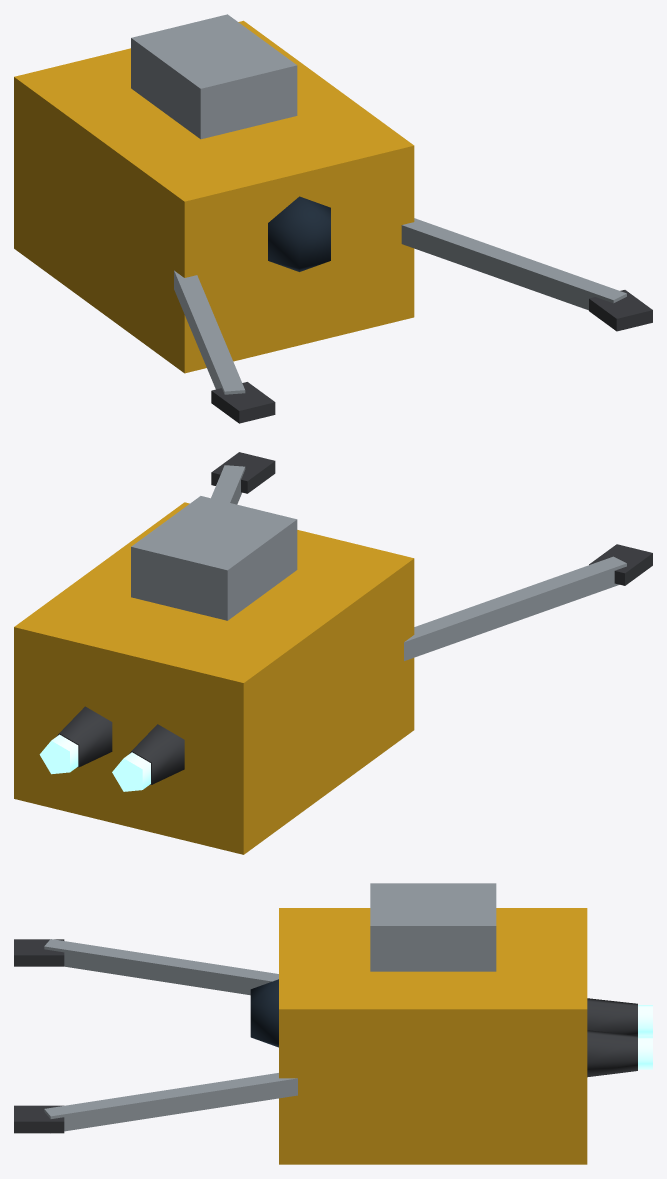
The model's file is space_ship_builder_drone_mk4_lod1.glb.
3 renders of one model, top to bottom at view 1: azimuth 30°, elevation 25°; view 2: azimuth 150°, elevation 25°; view 3: azimuth 270°, elevation 25°, orthographic. The views are drawn at different scales.
Visible parts, largest first — view 1: body, arm_1, arm_0; view 2: body, arm_0, engine_1, engine_0, arm_1; view 3: body, arm_1, arm_0, engine_1, engine_0.
Part boxes in pixels (x1=…): body: x1=14, y1=14, x2=414, y2=373; arm_1: x1=401, y1=218, x2=652, y2=331; arm_0: x1=174, y1=270, x2=275, y2=423; body: x1=14, y1=496, x2=414, y2=854; arm_0: x1=404, y1=544, x2=652, y2=660; engine_1: x1=39, y1=706, x2=112, y2=774; engine_0: x1=112, y1=724, x2=184, y2=791; arm_1: x1=211, y1=452, x2=275, y2=504; body: x1=250, y1=883, x2=587, y2=1164; arm_1: x1=14, y1=1073, x2=297, y2=1133; arm_0: x1=14, y1=939, x2=278, y2=995; engine_1: x1=587, y1=1030, x2=652, y2=1077; engine_0: x1=587, y1=998, x2=652, y2=1036.
Size of the model in its own units: 3.43 by 1.83 by 5.07.
